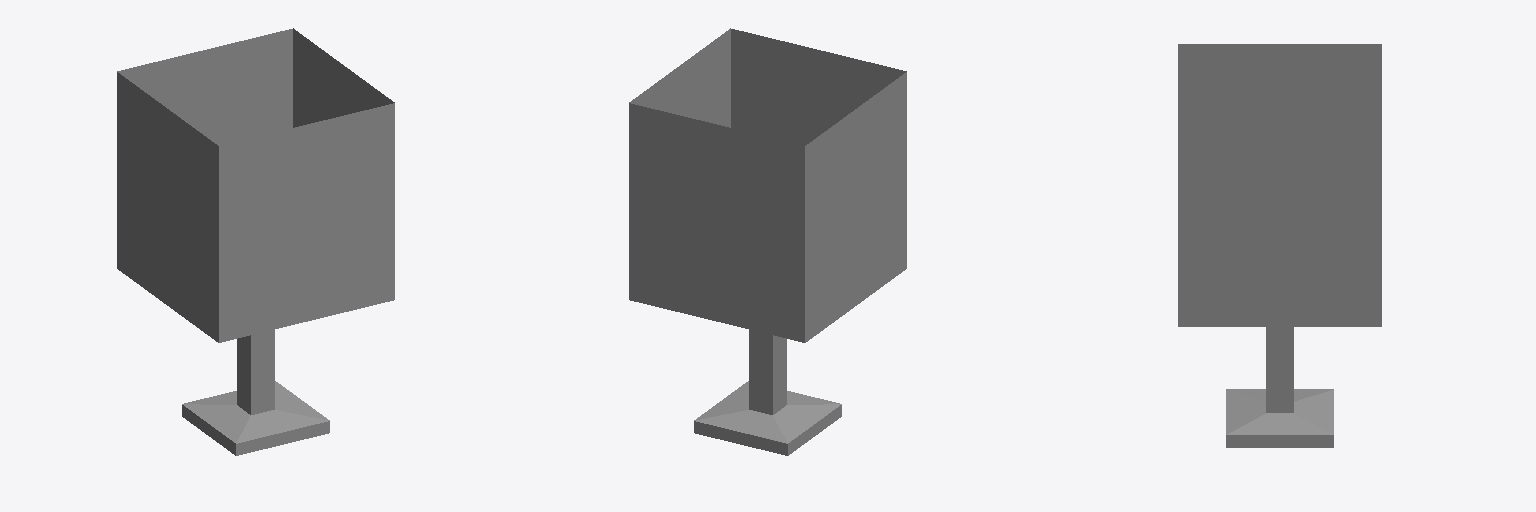
Rendered from lamp.obj.
The picture shows the model from 3 angles: view 1: azimuth 30°, elevation 25°; view 2: azimuth 150°, elevation 25°; view 3: azimuth 270°, elevation 25°; orthographic projection.
Parts seen in each view (by area): view 1: Plane.004; view 2: Plane.004; view 3: Plane.004.
Boxes of the visible parts, x1=… form: Plane.004: x1=117, y1=28, x2=394, y2=455; Plane.004: x1=629, y1=28, x2=906, y2=455; Plane.004: x1=1178, y1=44, x2=1381, y2=447.
Size of the model in its own units: 1.18 by 2.15 by 1.18.